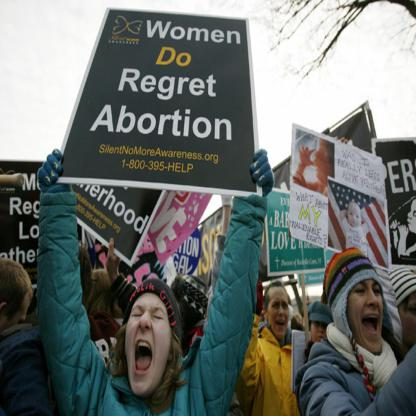face: (126, 297, 173, 396), (345, 273, 384, 354), (1, 297, 30, 339), (396, 288, 416, 344), (268, 291, 290, 339), (318, 138, 336, 183), (312, 314, 330, 347), (350, 205, 361, 227)
